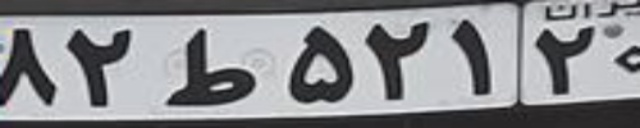0: (604, 45, 638, 74)
1: (446, 18, 499, 96)
2: (362, 20, 434, 101), (65, 27, 134, 107), (530, 24, 595, 94)
5: (284, 24, 354, 103)
8: (1, 27, 57, 107)
taa: (162, 28, 257, 106)
